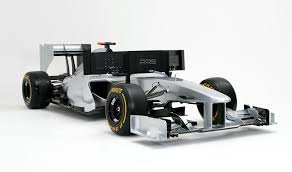FormulaOneCar: (20, 41, 279, 144)
